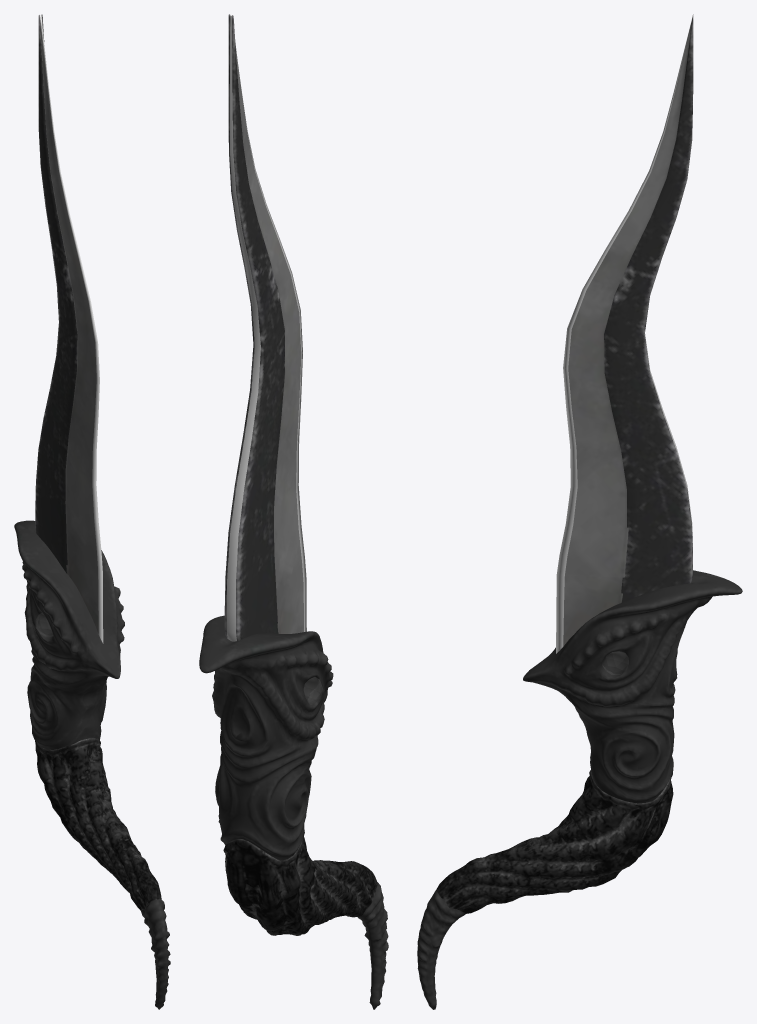
File: crow_dagger.glb
3 views of the same model, side by side, from view 1: azimuth 30°, elevation 25°; view 2: azimuth 150°, elevation 25°; view 3: azimuth 270°, elevation 25° (orthographic). The views are drawn at different scales.
Visible parts, largest first — view 1: Carbonado TEX.001; view 2: Carbonado TEX.001; view 3: Carbonado TEX.001.
Boxes of the visible parts, x1=… form: Carbonado TEX.001: x1=14, y1=14, x2=170, y2=1009; Carbonado TEX.001: x1=199, y1=14, x2=388, y2=1009; Carbonado TEX.001: x1=417, y1=14, x2=742, y2=1009.
Bounding box in the file's own units: 0.0541 × 0.6003 × 0.1778.
Materials: 6 (5 with a texture image).
